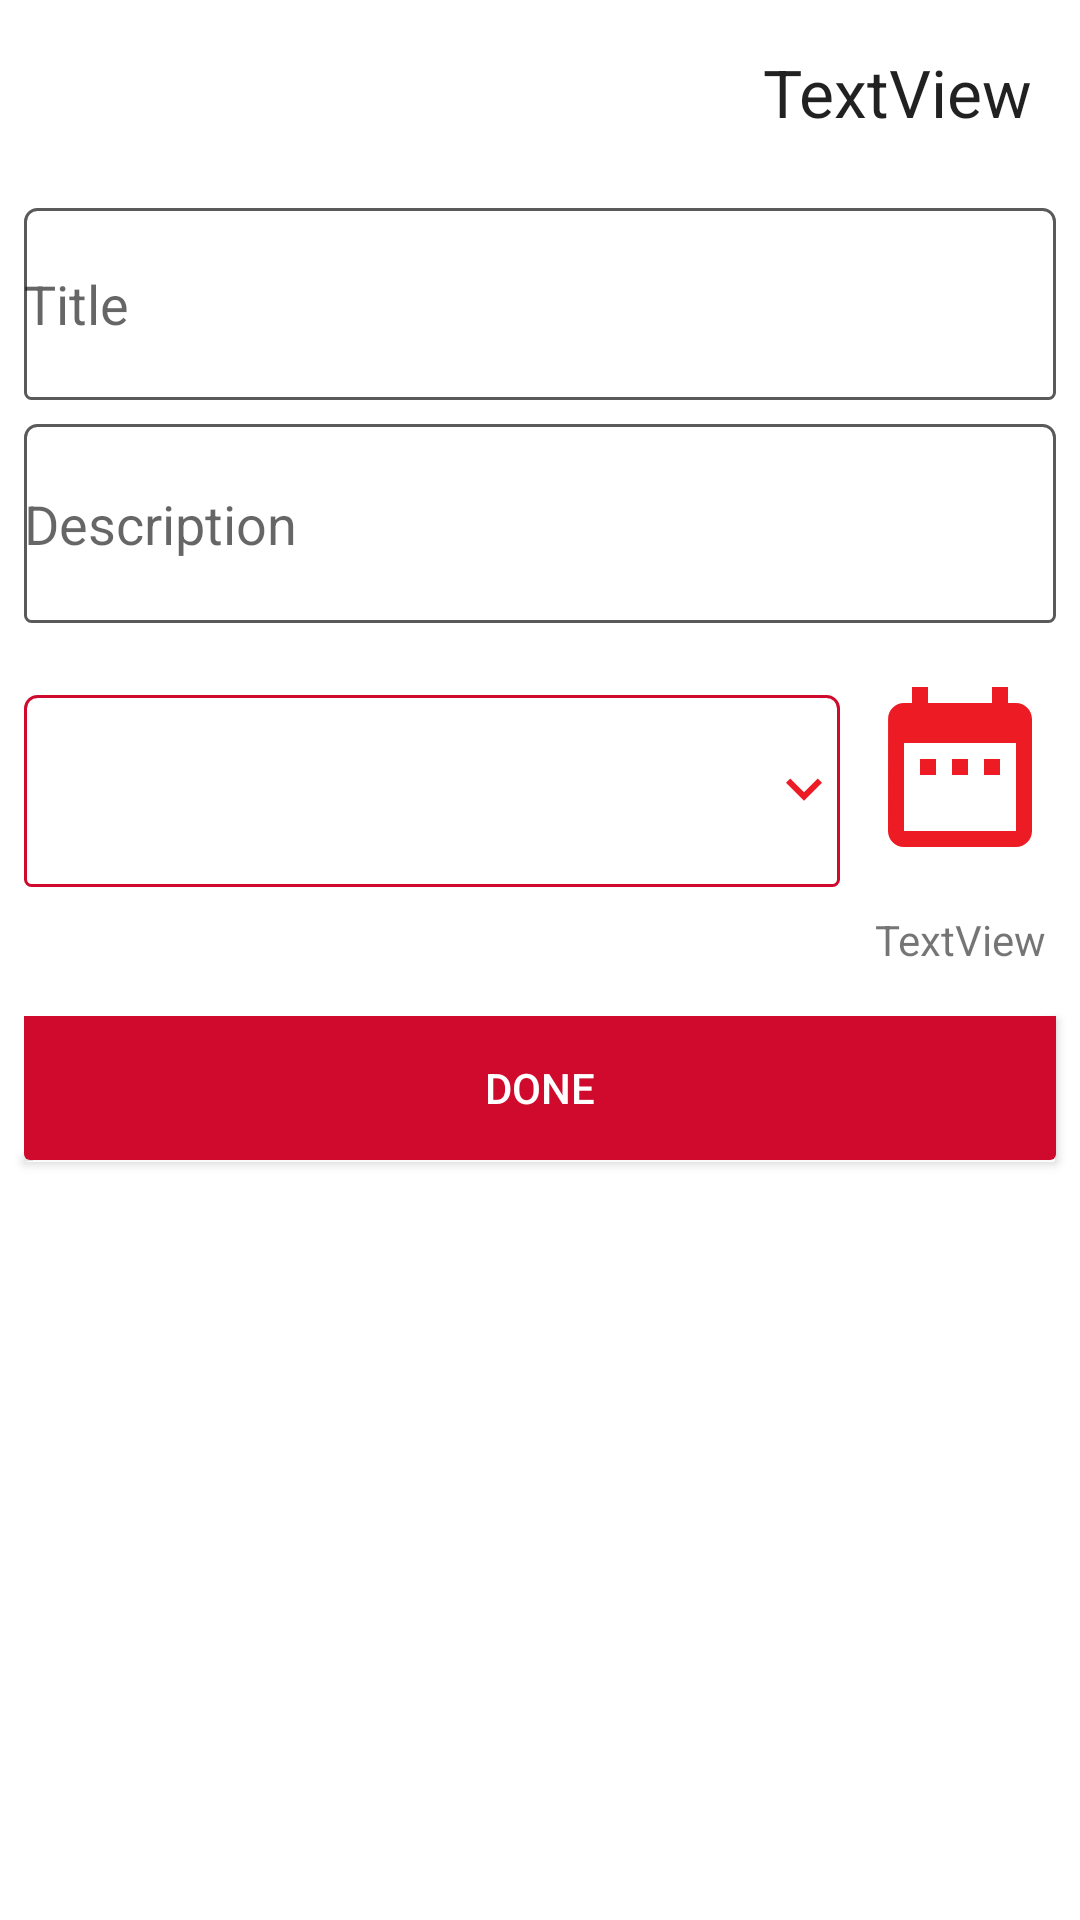

Named icons in this screenshot (1080*1920) and their centers, (x=x, y=y):
date range: (x=960, y=767)
keyboard arrow down: (x=804, y=789)
